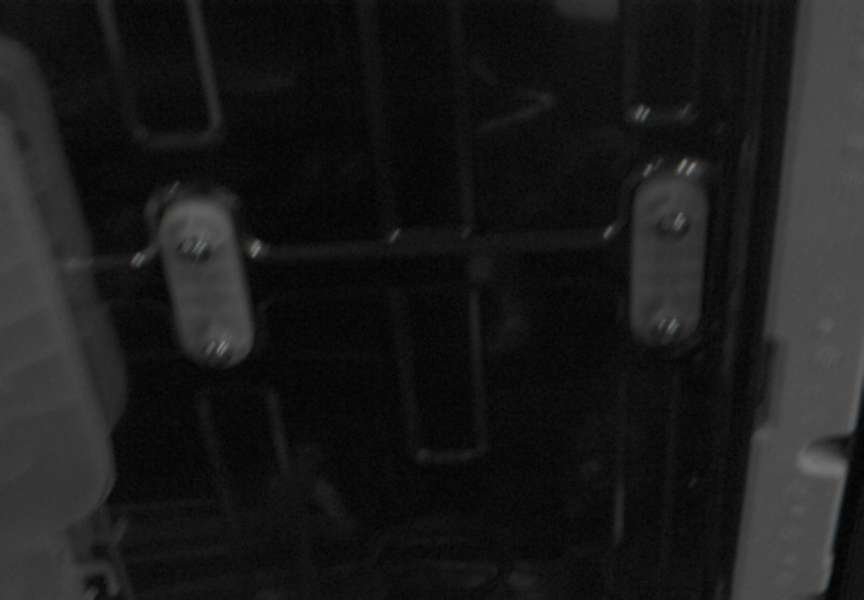screw: (176, 236, 213, 263), (656, 211, 691, 239), (652, 316, 683, 346), (201, 338, 233, 367)
